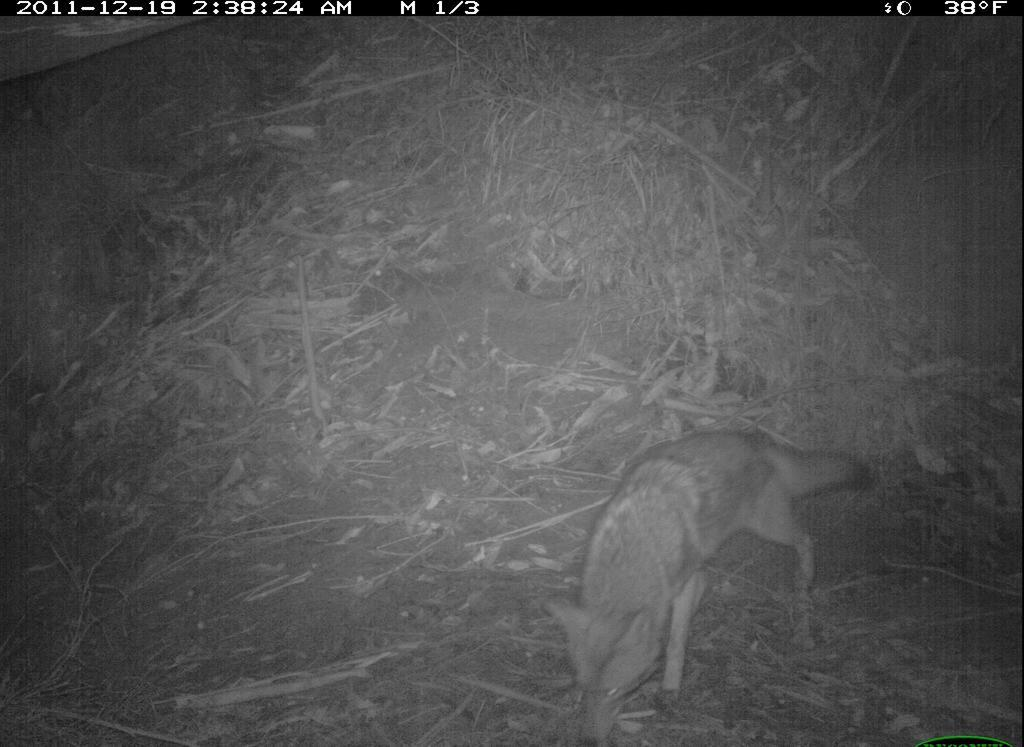coyote: (546, 425, 875, 743)
